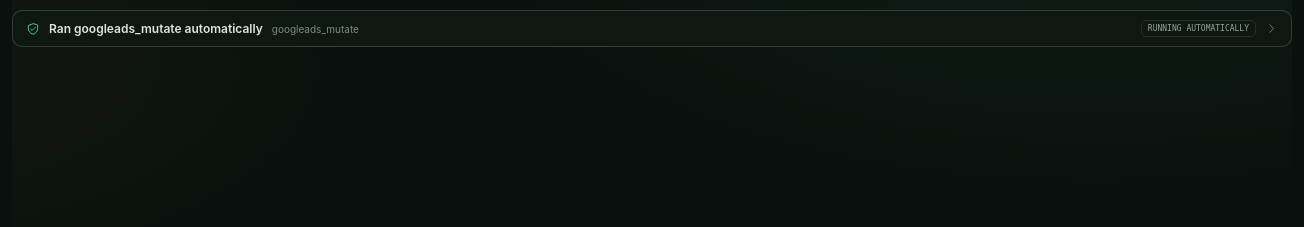
Scenario: finished action cards › starts an automatic card folded even when it is the latest, and while it runs
Later steps or results of the test are not shown.
Expected: the text "\"customer_id\": \"42\"" is not shown
Expected: the text "running automatically" is shown, [1141,20,1256,37]
Click the button "Ran googleads_mutate automatically" at (156, 28), box [13,11,1291,46]
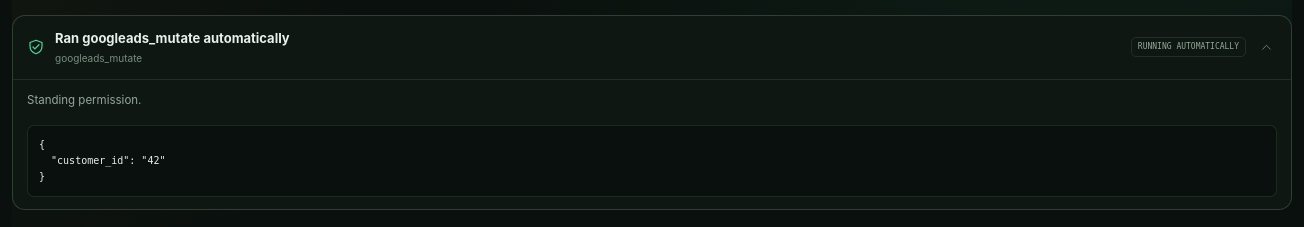
Expected: the text "{ \"customer_id\": \"42\" }" is shown, [27,125,1277,197]
